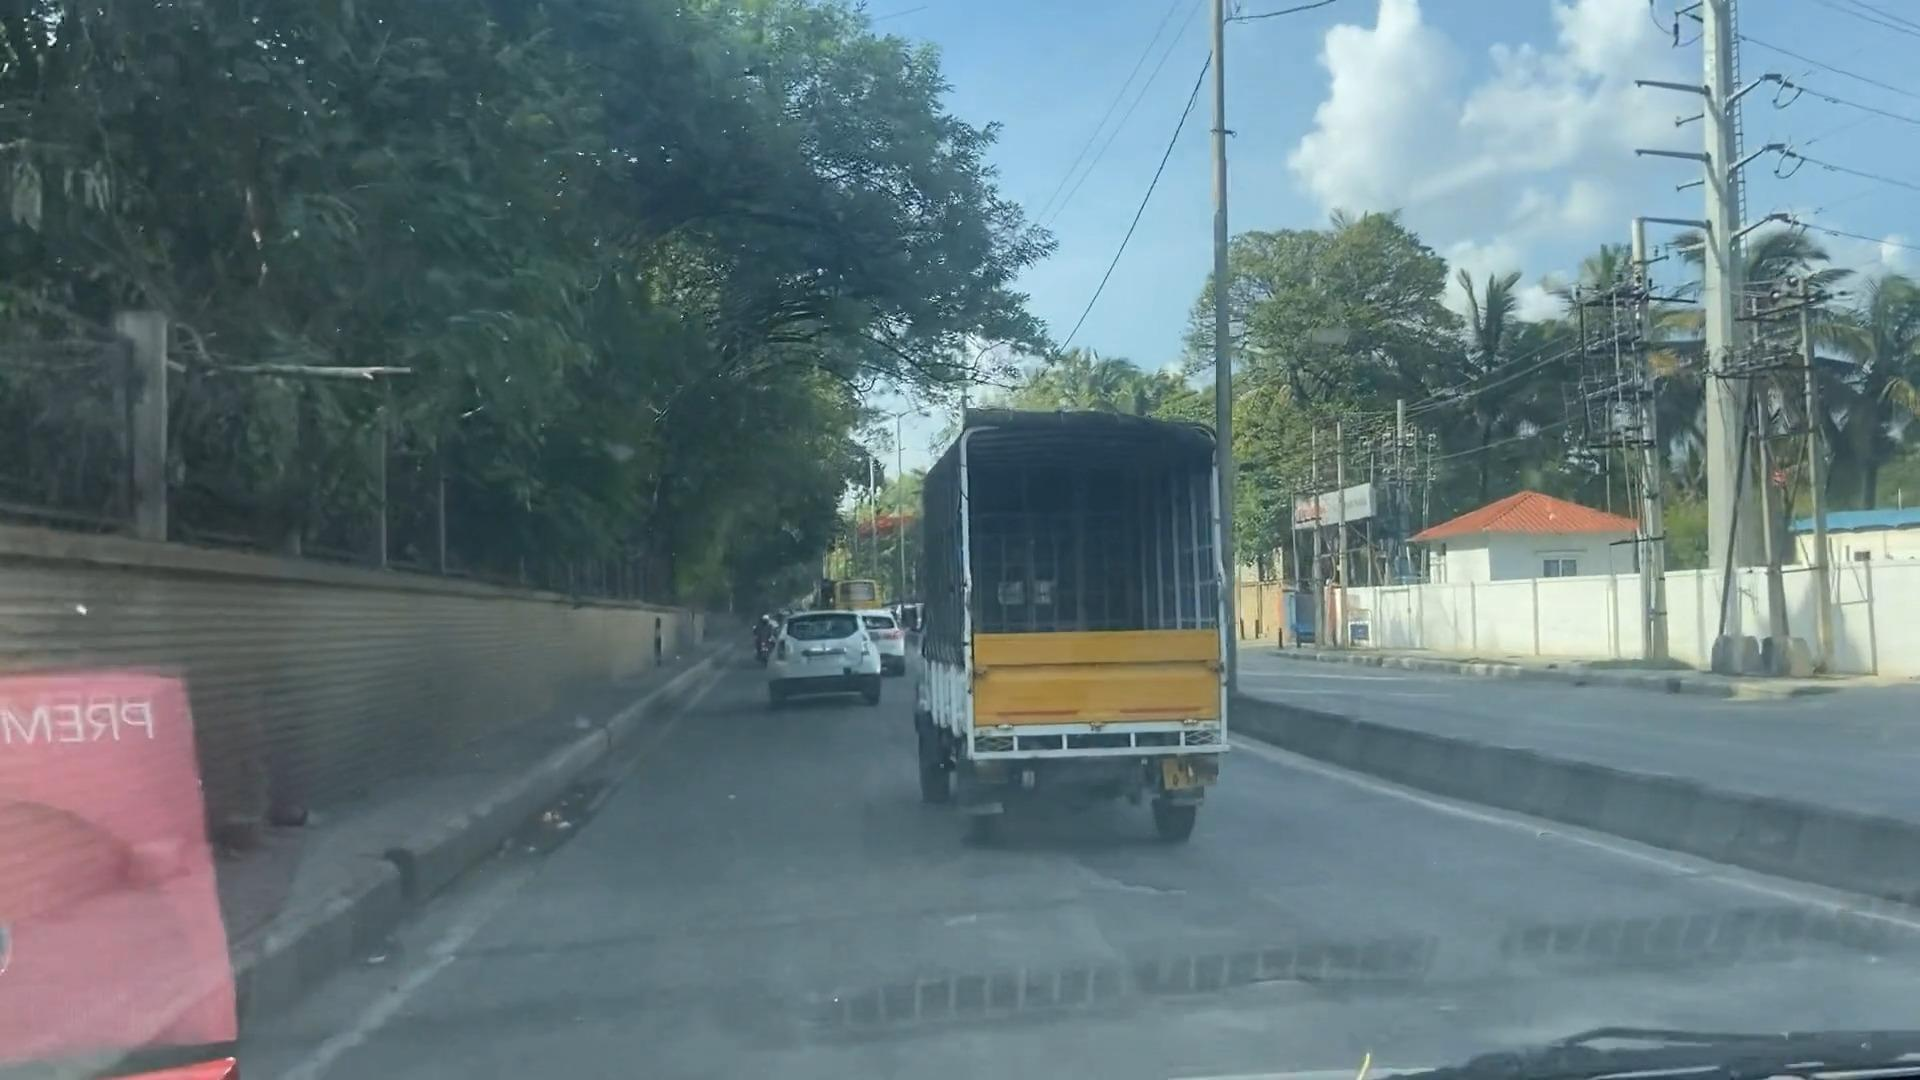HMV: (910, 406, 1223, 838)
LMV: (772, 614, 879, 704)
RoadDamages: (896, 838, 1217, 944), (1198, 958, 1331, 1018)
